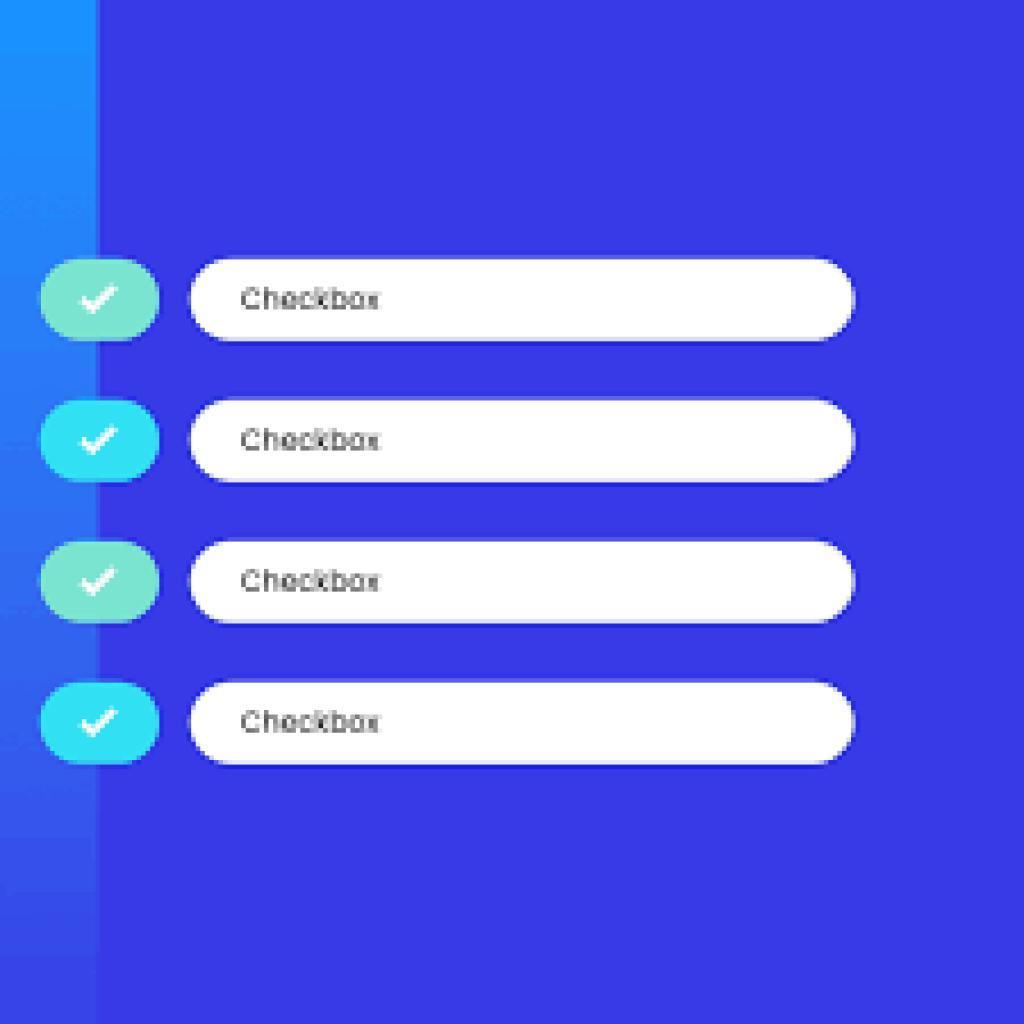checkbox: (36, 399, 163, 488), (39, 255, 165, 344), (37, 684, 163, 769), (40, 540, 161, 627)
label: (238, 695, 398, 744), (239, 277, 389, 322), (237, 561, 388, 600), (235, 424, 389, 458)
